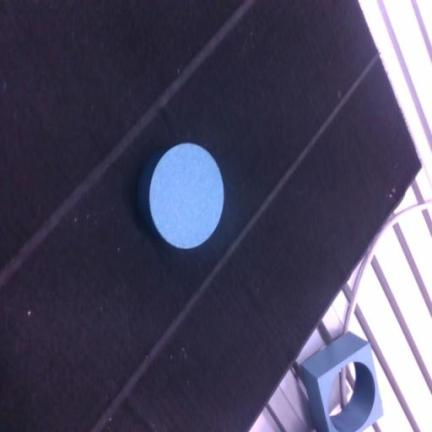cylinder: (138, 143, 224, 249)
